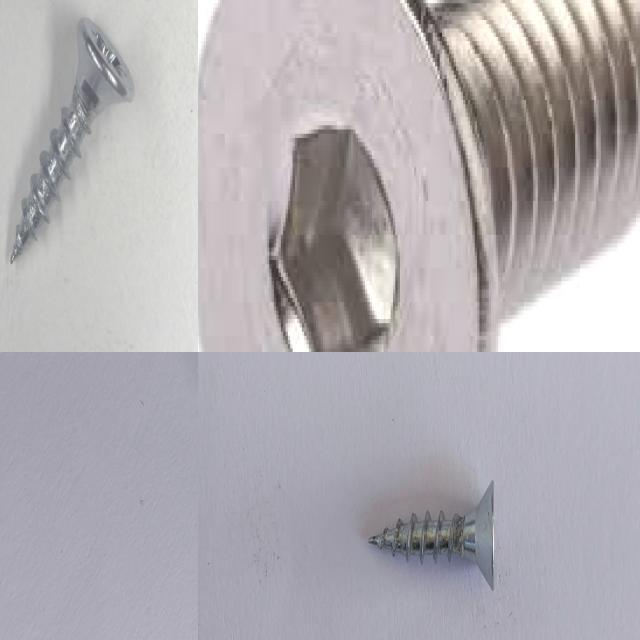Screw: (198, 0, 640, 352), (11, 16, 134, 261), (369, 480, 494, 588)
